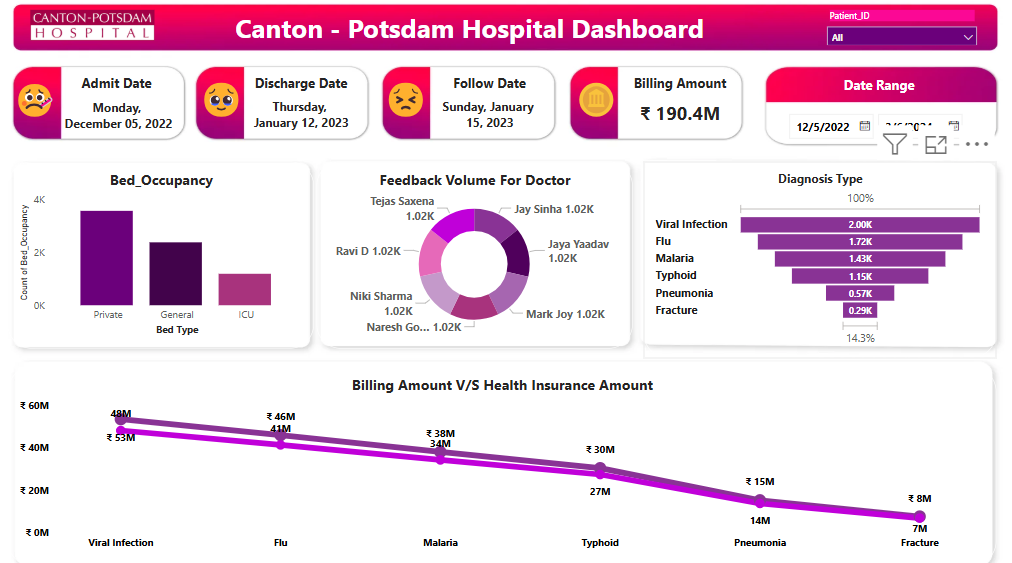

The dashboard page shown, as its layout file describes it:
{"tool":"powerbi","page":{"name":"Page 1","canvas":[1280,720],"ordinal":0},"visuals":[{"type":"image","box":[28.6,17.1,208.6,48.6],"z":0},{"type":"textbox","box":[237.1,17.1,715.7,48.6],"z":1000},{"type":"slicer","fields":{"Values":["Sheet1.Patient_ID"]},"box":[1025.7,17.1,204.3,48.6],"z":2000},{"type":"card","fields":{"Values":["Sheet1.Admit_Date"]},"box":[90,120,146.7,61.7],"z":3000},{"type":"textbox","box":[28.3,96.7,61.7,70],"z":4000},{"type":"textbox","box":[86.7,96.7,150,45],"z":5000},{"type":"textbox","box":[313.3,96.7,150,45],"z":6000},{"type":"card","fields":{"Values":["Sheet1.Discharge_Date"]},"box":[321.7,120,135,60],"z":7000},{"type":"card","fields":{"Values":["Sheet1.Followup Date"]},"box":[546.7,120,145,60],"z":8000},{"type":"textbox","box":[546.7,96.7,145,45],"z":9000},{"type":"card","fields":{"Values":["Sheet1.Billing Amount"]},"box":[781.7,120,145,60],"z":10000},{"type":"textbox","box":[781.7,96.7,145,45],"z":11000},{"type":"slicer","fields":{"Values":["Sheet1.Admit_Date"]},"box":[975,140,246.2,46.2],"z":12000},{"type":"textbox","box":[256.7,96.7,65,90],"z":13000},{"type":"textbox","box":[483.3,96.7,63.3,78.3],"z":14000},{"type":"textbox","box":[716.7,96.7,65,70],"z":15000},{"type":"columnChart","title":"Bed_Occupancy ","fields":{"Category":["Sheet1.Bed_Occupancy"],"Y":["Sheet1.Bed_Occupancy"]},"box":[28.3,208.3,376.7,230],"z":16000},{"type":"donutChart","title":"Feedback Volume For Doctor","fields":{"Category":["Sheet1.Doctor"],"Y":["Sheet1.Doctor"]},"box":[406.7,208.3,388.3,230],"z":17000},{"type":"funnel","title":" Diagnosis Type","fields":{"Category":["Sheet1.Diagnosis"],"Y":["Sheet1.Diagnosis"]},"box":[808.9,208.9,433.3,241.1],"z":18000},{"type":"lineChart","title":"Billing Amount V/S Health Insurance Amount ","fields":{"Y":["Sheet1.Billing Amount","Sheet1.Health Insurance Amount"],"Category":["Sheet1.Diagnosis"]},"box":[27.5,460,1215,243.8],"z":19000},{"type":"textbox","box":[1010,97.5,177.5,45],"z":20000}]}

Visuals, with their boxes in screenshot pixels (x1, y1, x2, y2), scaled from the page's 1280x720 canvas onto the 1012x563 screenshot:
image: x1=23 y1=13 x2=188 y2=51
textbox: x1=187 y1=13 x2=753 y2=51
slicer - Sheet1.Patient_ID: x1=811 y1=13 x2=972 y2=51
card - Sheet1.Admit_Date: x1=71 y1=94 x2=187 y2=142
textbox: x1=22 y1=76 x2=71 y2=130
textbox: x1=69 y1=76 x2=187 y2=111
textbox: x1=248 y1=76 x2=366 y2=111
card - Sheet1.Discharge_Date: x1=254 y1=94 x2=361 y2=141
card - Sheet1.Followup Date: x1=432 y1=94 x2=547 y2=141
textbox: x1=432 y1=76 x2=547 y2=111
card - Sheet1.Billing Amount: x1=618 y1=94 x2=733 y2=141
textbox: x1=618 y1=76 x2=733 y2=111
slicer - Sheet1.Admit_Date: x1=771 y1=109 x2=966 y2=146
textbox: x1=203 y1=76 x2=254 y2=146
textbox: x1=382 y1=76 x2=432 y2=137
textbox: x1=567 y1=76 x2=618 y2=130
"Bed_Occupancy " columnChart: x1=22 y1=163 x2=320 y2=343
"Feedback Volume For Doctor" donutChart: x1=322 y1=163 x2=629 y2=343
" Diagnosis Type" funnel: x1=640 y1=163 x2=982 y2=352
"Billing Amount V/S Health Insurance Amount " lineChart: x1=22 y1=360 x2=982 y2=550
textbox: x1=799 y1=76 x2=939 y2=111
